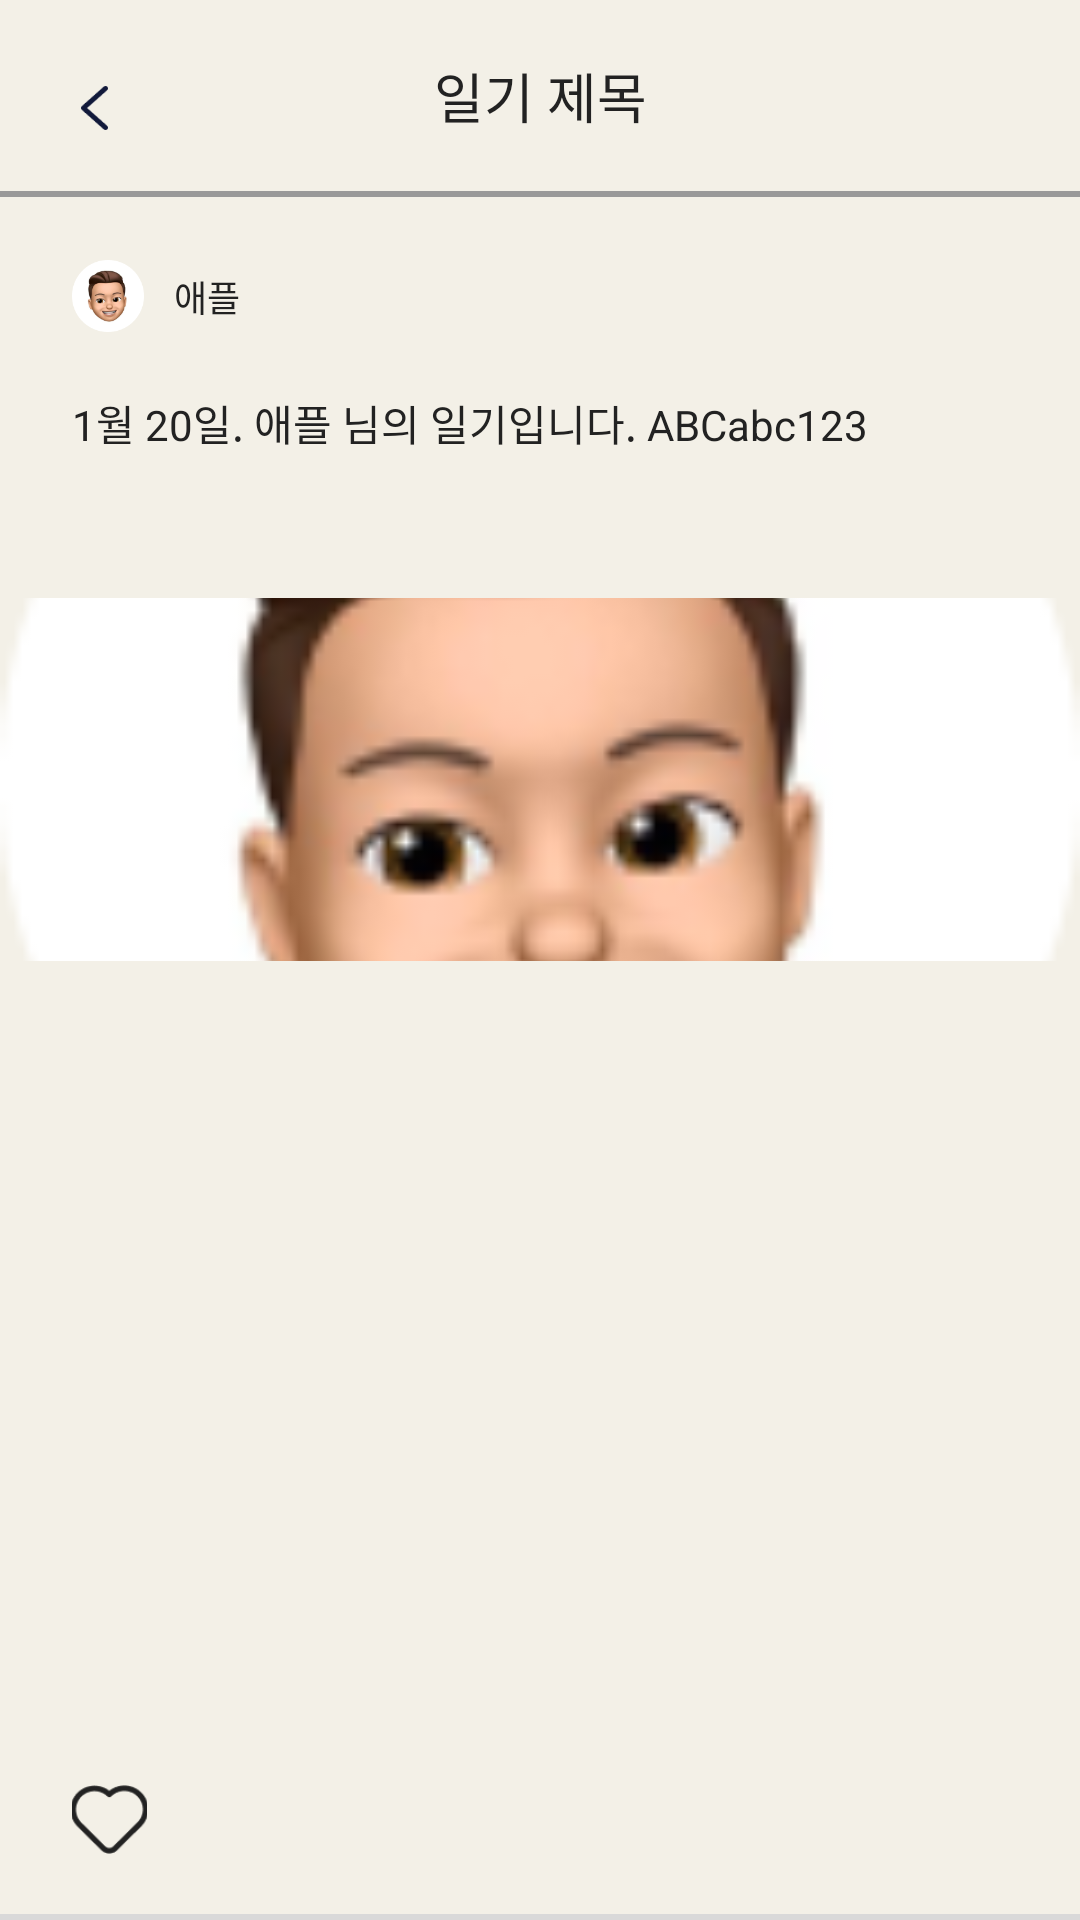

Named icons in this screenshot (1080px x 1920px) and their bounding boxes, (x1, y1, x2, y2):
arrow: (81, 86, 108, 130)
heart off: (72, 1785, 147, 1854)
